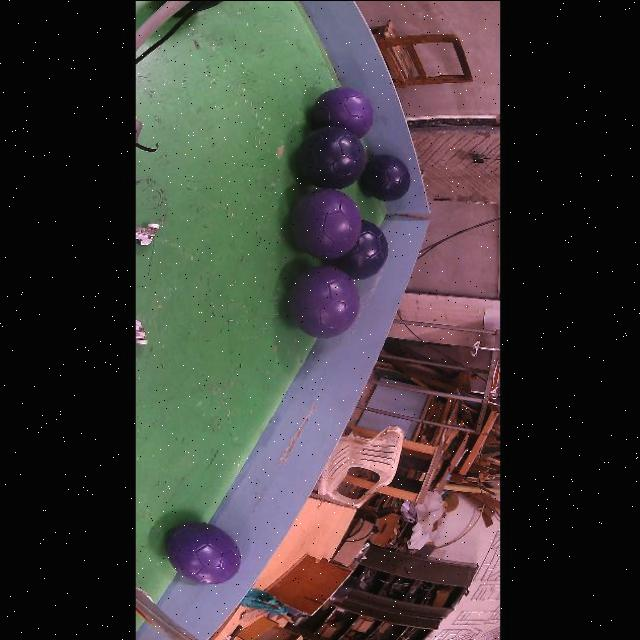B: (298, 126, 366, 188), (334, 219, 389, 279), (362, 153, 410, 200)
P: (288, 265, 360, 337), (290, 188, 362, 258), (166, 521, 241, 584), (313, 86, 374, 137)
